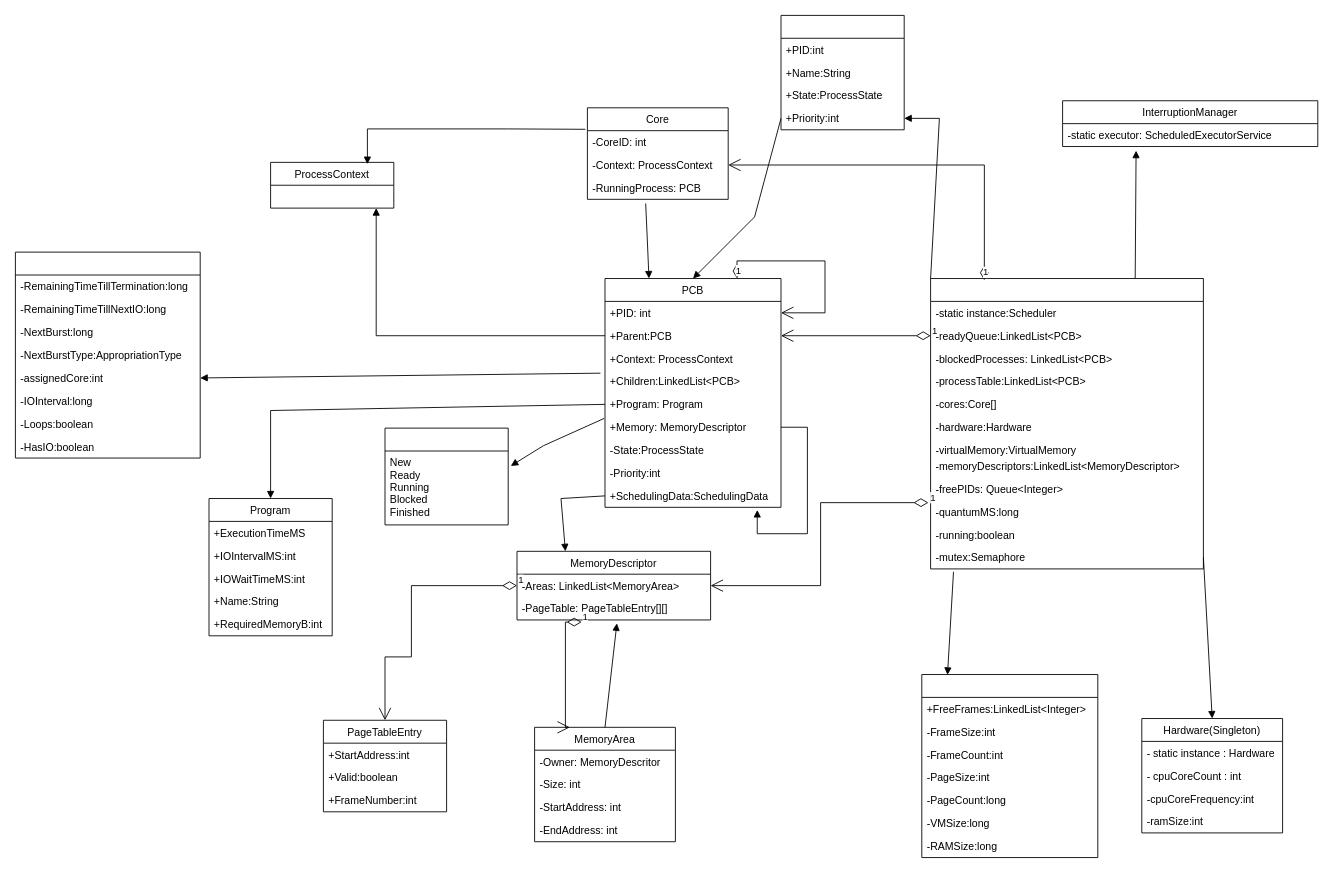
Image size: 1333x876. Some labels were removed from this diagram. Each missing label, with the box of its shape:
ProcessDetail: (780, 15, 904, 130)
ProcessState(Enum): (384, 427, 508, 525)
Scheduler(Singleton): (930, 278, 1203, 569)
SchedulingData: (15, 251, 200, 458)
VirtualMemory: (921, 674, 1098, 858)
